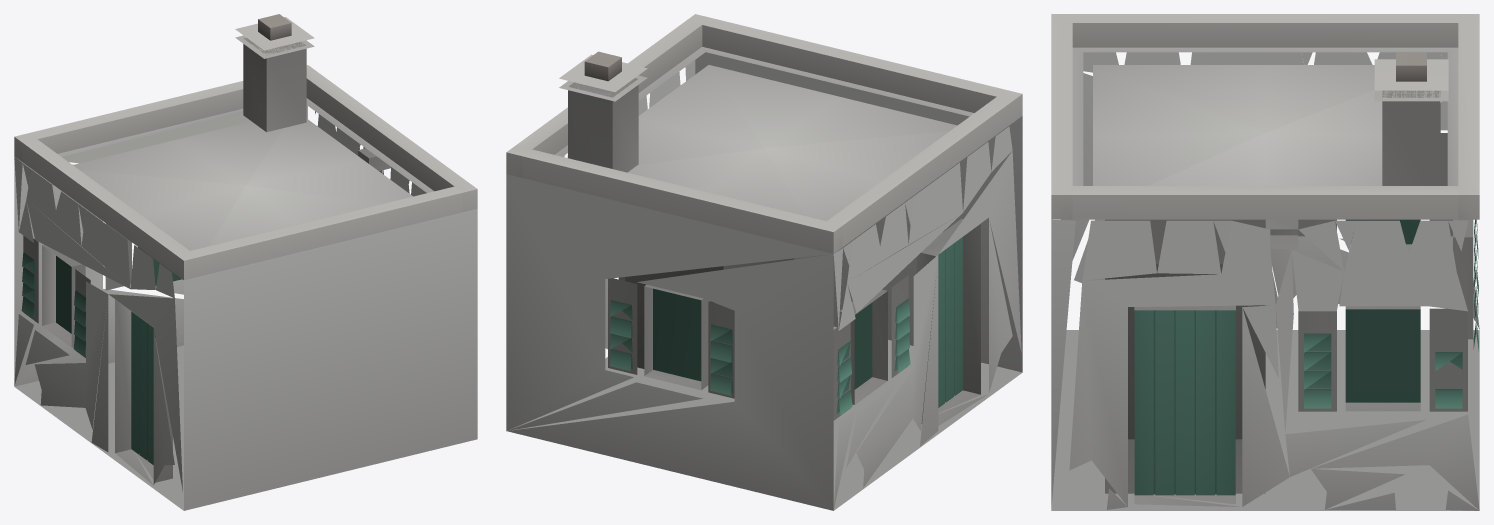
3 views of the same model, side by side, from view 1: azimuth 30°, elevation 25°; view 2: azimuth 150°, elevation 25°; view 3: azimuth 270°, elevation 25° (orthographic). The views are drawn at different scales.
Visible parts, largest first — view 1: cube1b; view 2: cube1b; view 3: cube1b.
Boxes of the visible parts, box(x1,y1,x2,y2) form: cube1b: box(14, 14, 477, 510); cube1b: box(506, 14, 1022, 510); cube1b: box(1051, 14, 1479, 510).
Bounding box in the file's own units: 4.4 × 4.7 × 4.4.
